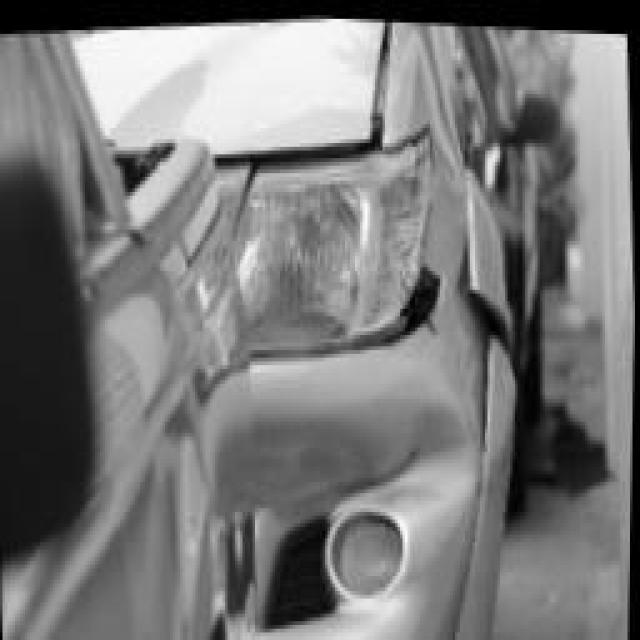Bumper: (248, 309, 515, 640)
Fender: (432, 60, 509, 301)
